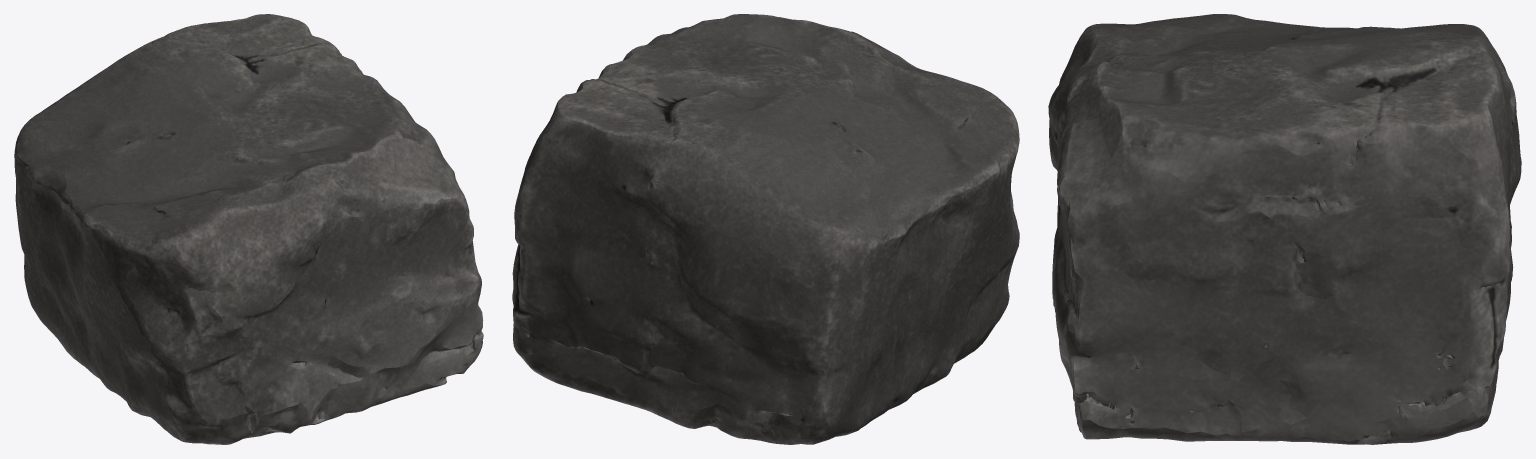
3 views of the same model, side by side, from view 1: azimuth 30°, elevation 25°; view 2: azimuth 150°, elevation 25°; view 3: azimuth 270°, elevation 25° (orthographic). The views are drawn at different scales.
Visible parts, largest first — view 1: world; view 2: world; view 3: world.
Part boxes in pixels (box(x1,y1,x2,y2)): world: box(14, 14, 483, 444); world: box(512, 14, 1019, 444); world: box(1048, 14, 1521, 444).
Size of the model in its own units: 1.2 by 0.9214 by 1.18.
Materials: 1 (1 with a texture image).
